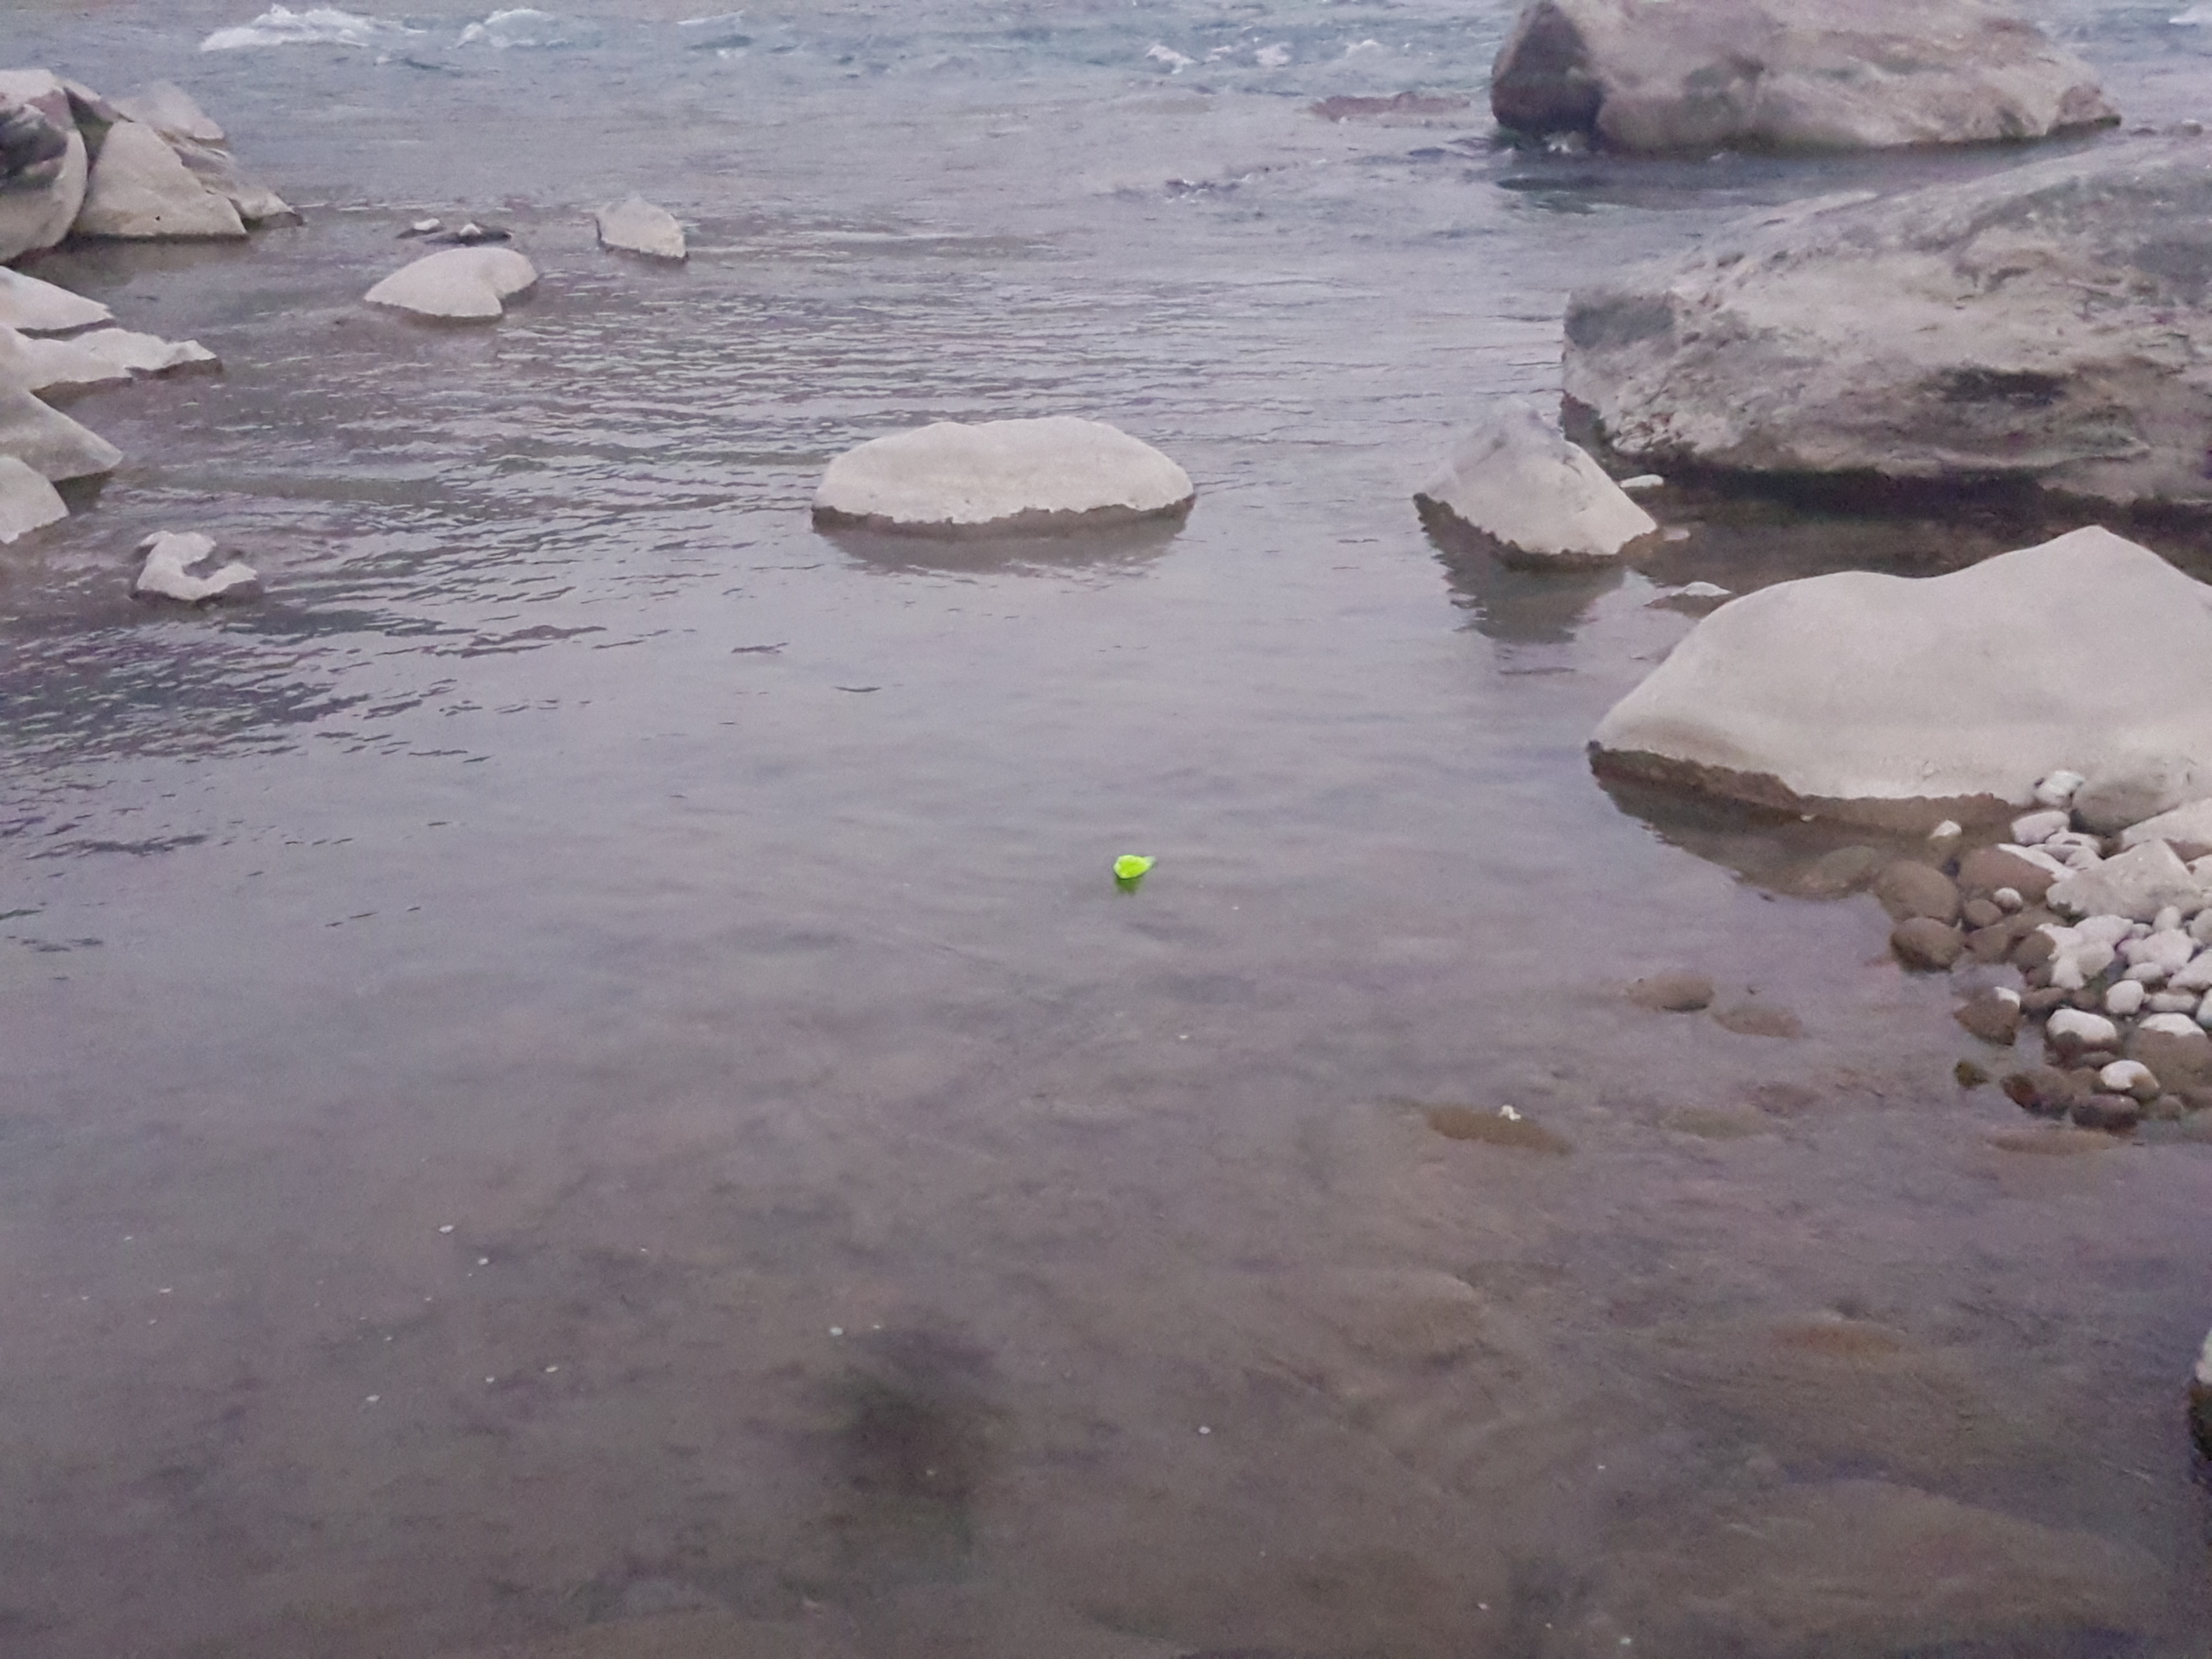Plastic Bottle: (1113, 854, 1155, 878)
